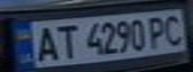0: (130, 16, 148, 52)
2: (100, 18, 118, 55)
4: (81, 19, 103, 56)
9: (115, 17, 133, 53)
A: (30, 24, 60, 63)
C: (160, 11, 190, 46)
P: (145, 14, 172, 48)
T: (51, 21, 81, 60)
